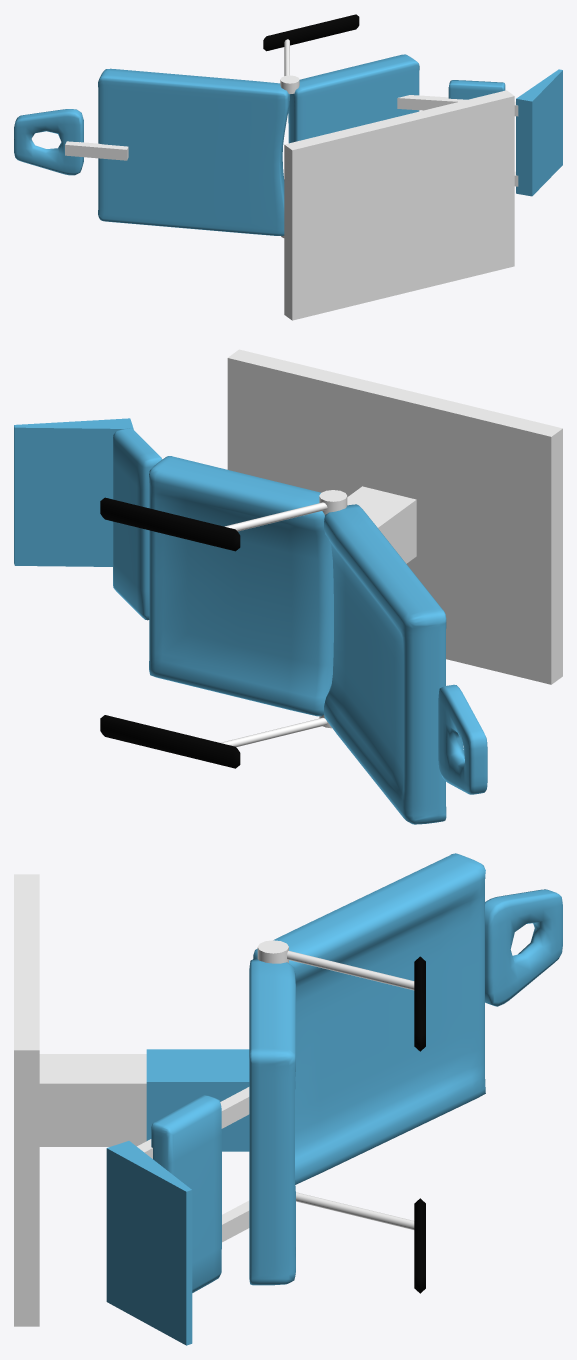
3 views of the same model, one above another, from view 1: azimuth 30°, elevation 25°; view 2: azimuth 150°, elevation 25°; view 3: azimuth 270°, elevation 25° (orthographic). The views are drawn at different scales.
Parts seen in each view (by area): view 1: Cube.001; view 2: Cube.001; view 3: Cube.001.
Part boxes in pixels (x1,y1,x2,y2): Cube.001: [14, 14, 562, 320]; Cube.001: [14, 349, 562, 824]; Cube.001: [14, 853, 562, 1345].
Bounding box in the file's own units: 161 × 60 × 108.
